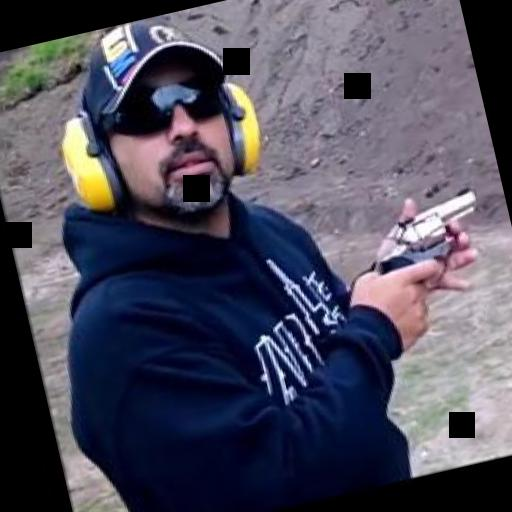Handgun: (354, 182, 501, 324)
